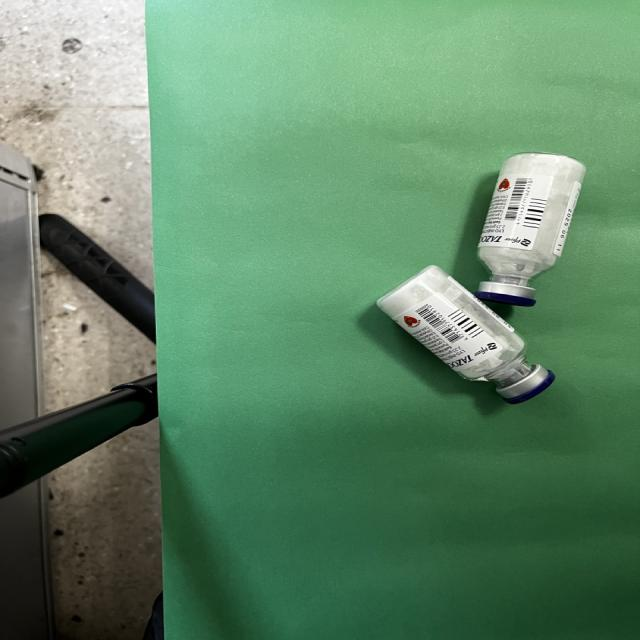Vials: (377, 266, 555, 405), (474, 152, 587, 308)
